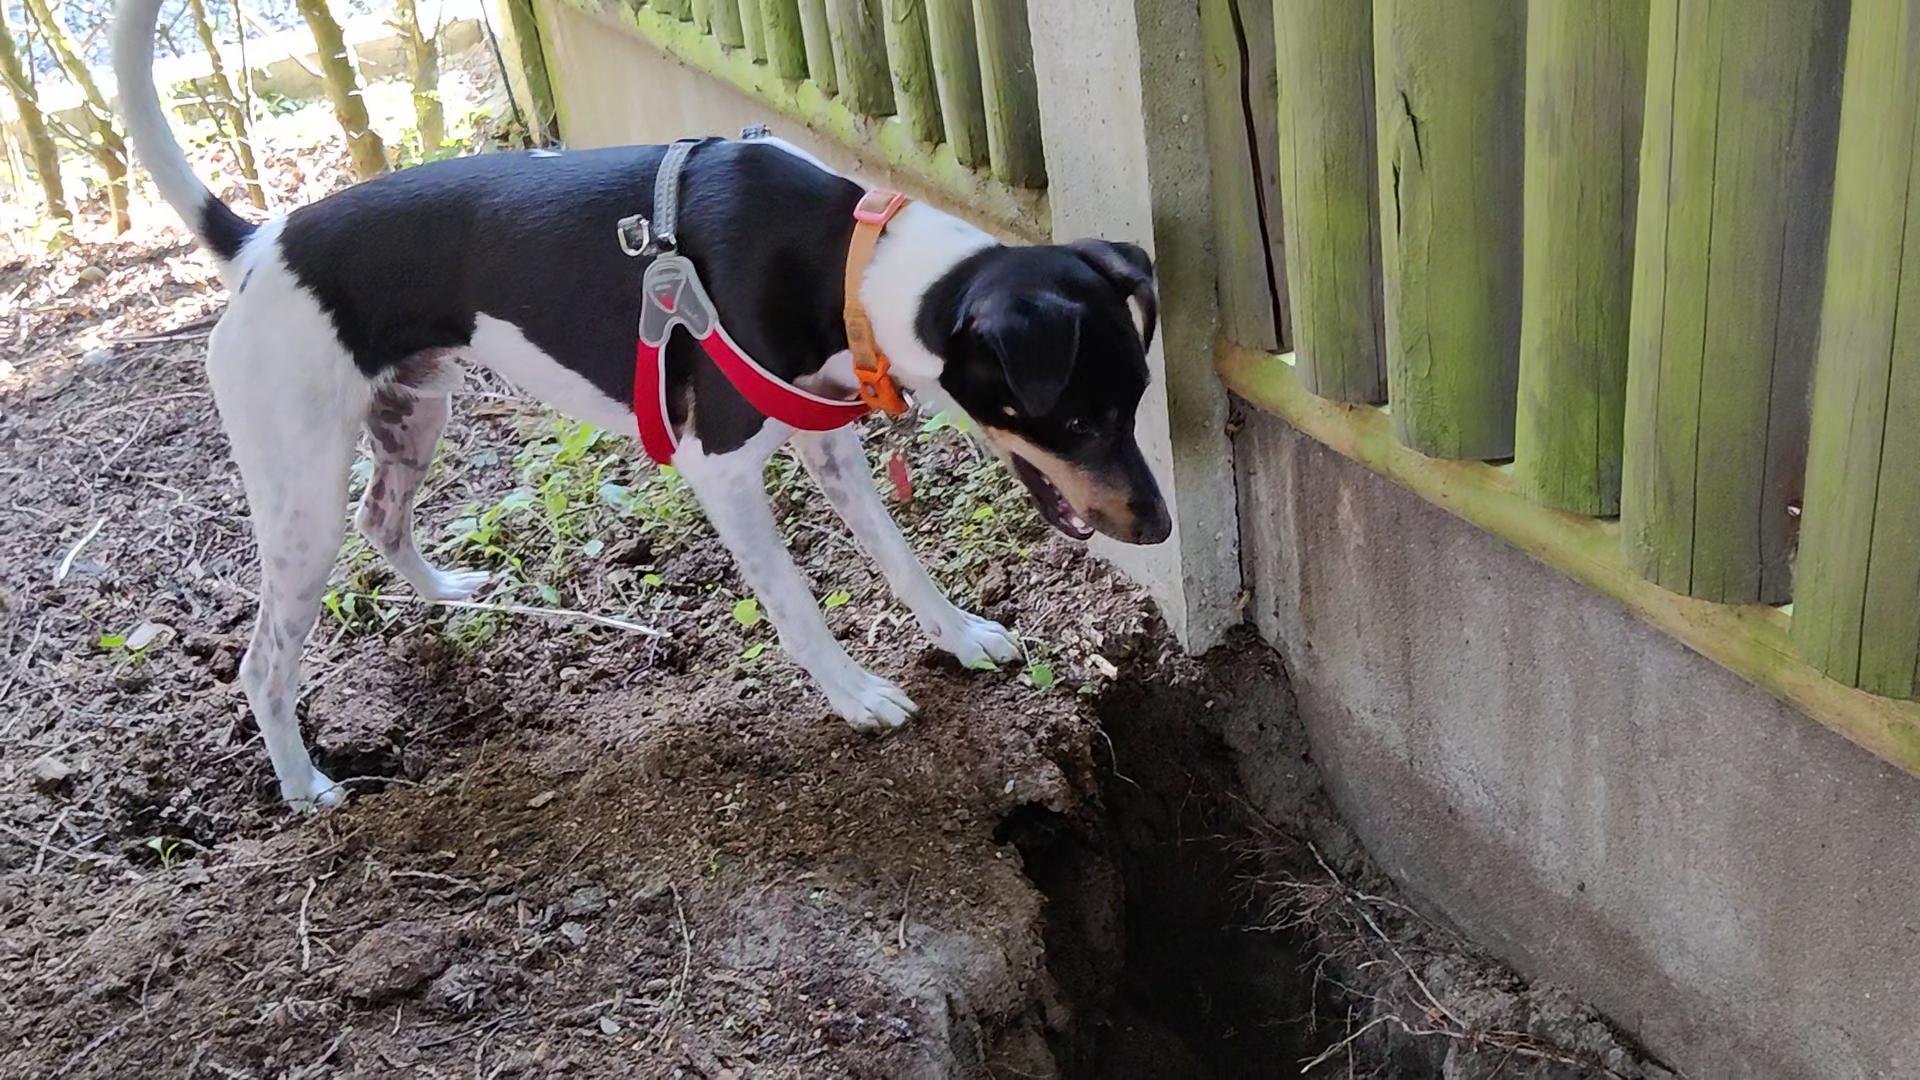Dog: (94, 0, 1185, 825)
